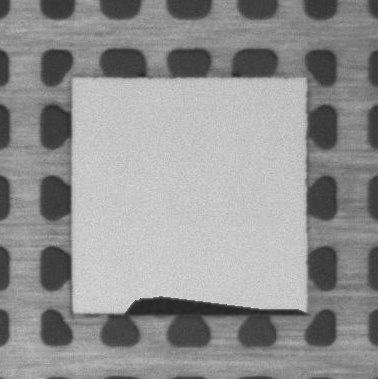DIE_BROKEN: (122, 295, 303, 317)
